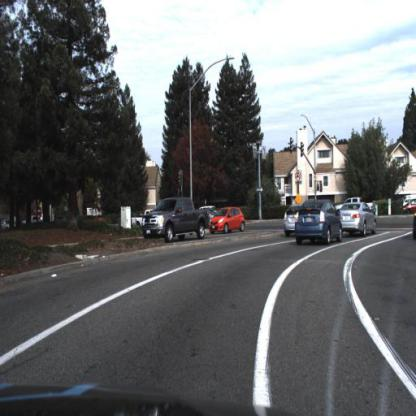car: (136, 192, 213, 247), (292, 196, 346, 248), (340, 199, 382, 239), (204, 204, 252, 238), (282, 205, 296, 241), (399, 199, 416, 217)
